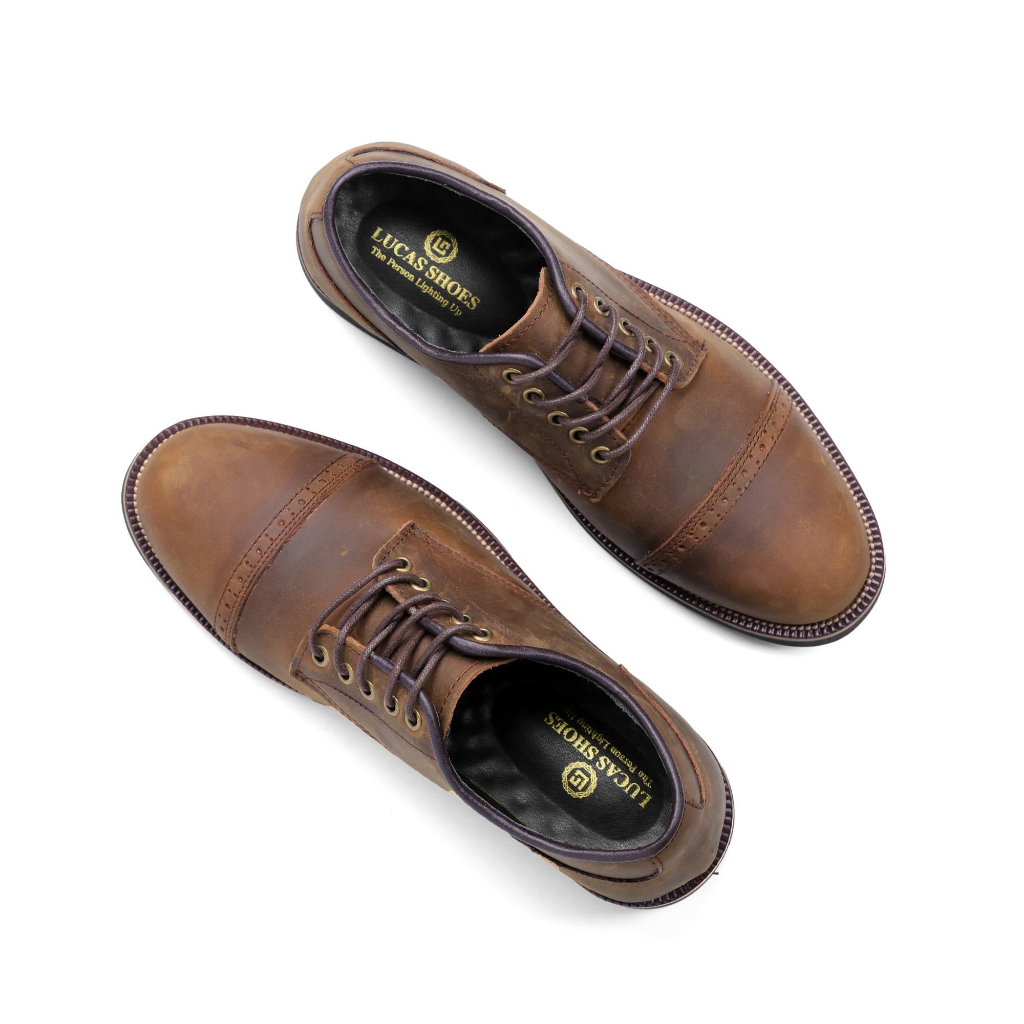derby: (119, 411, 736, 910), (293, 143, 889, 649)
